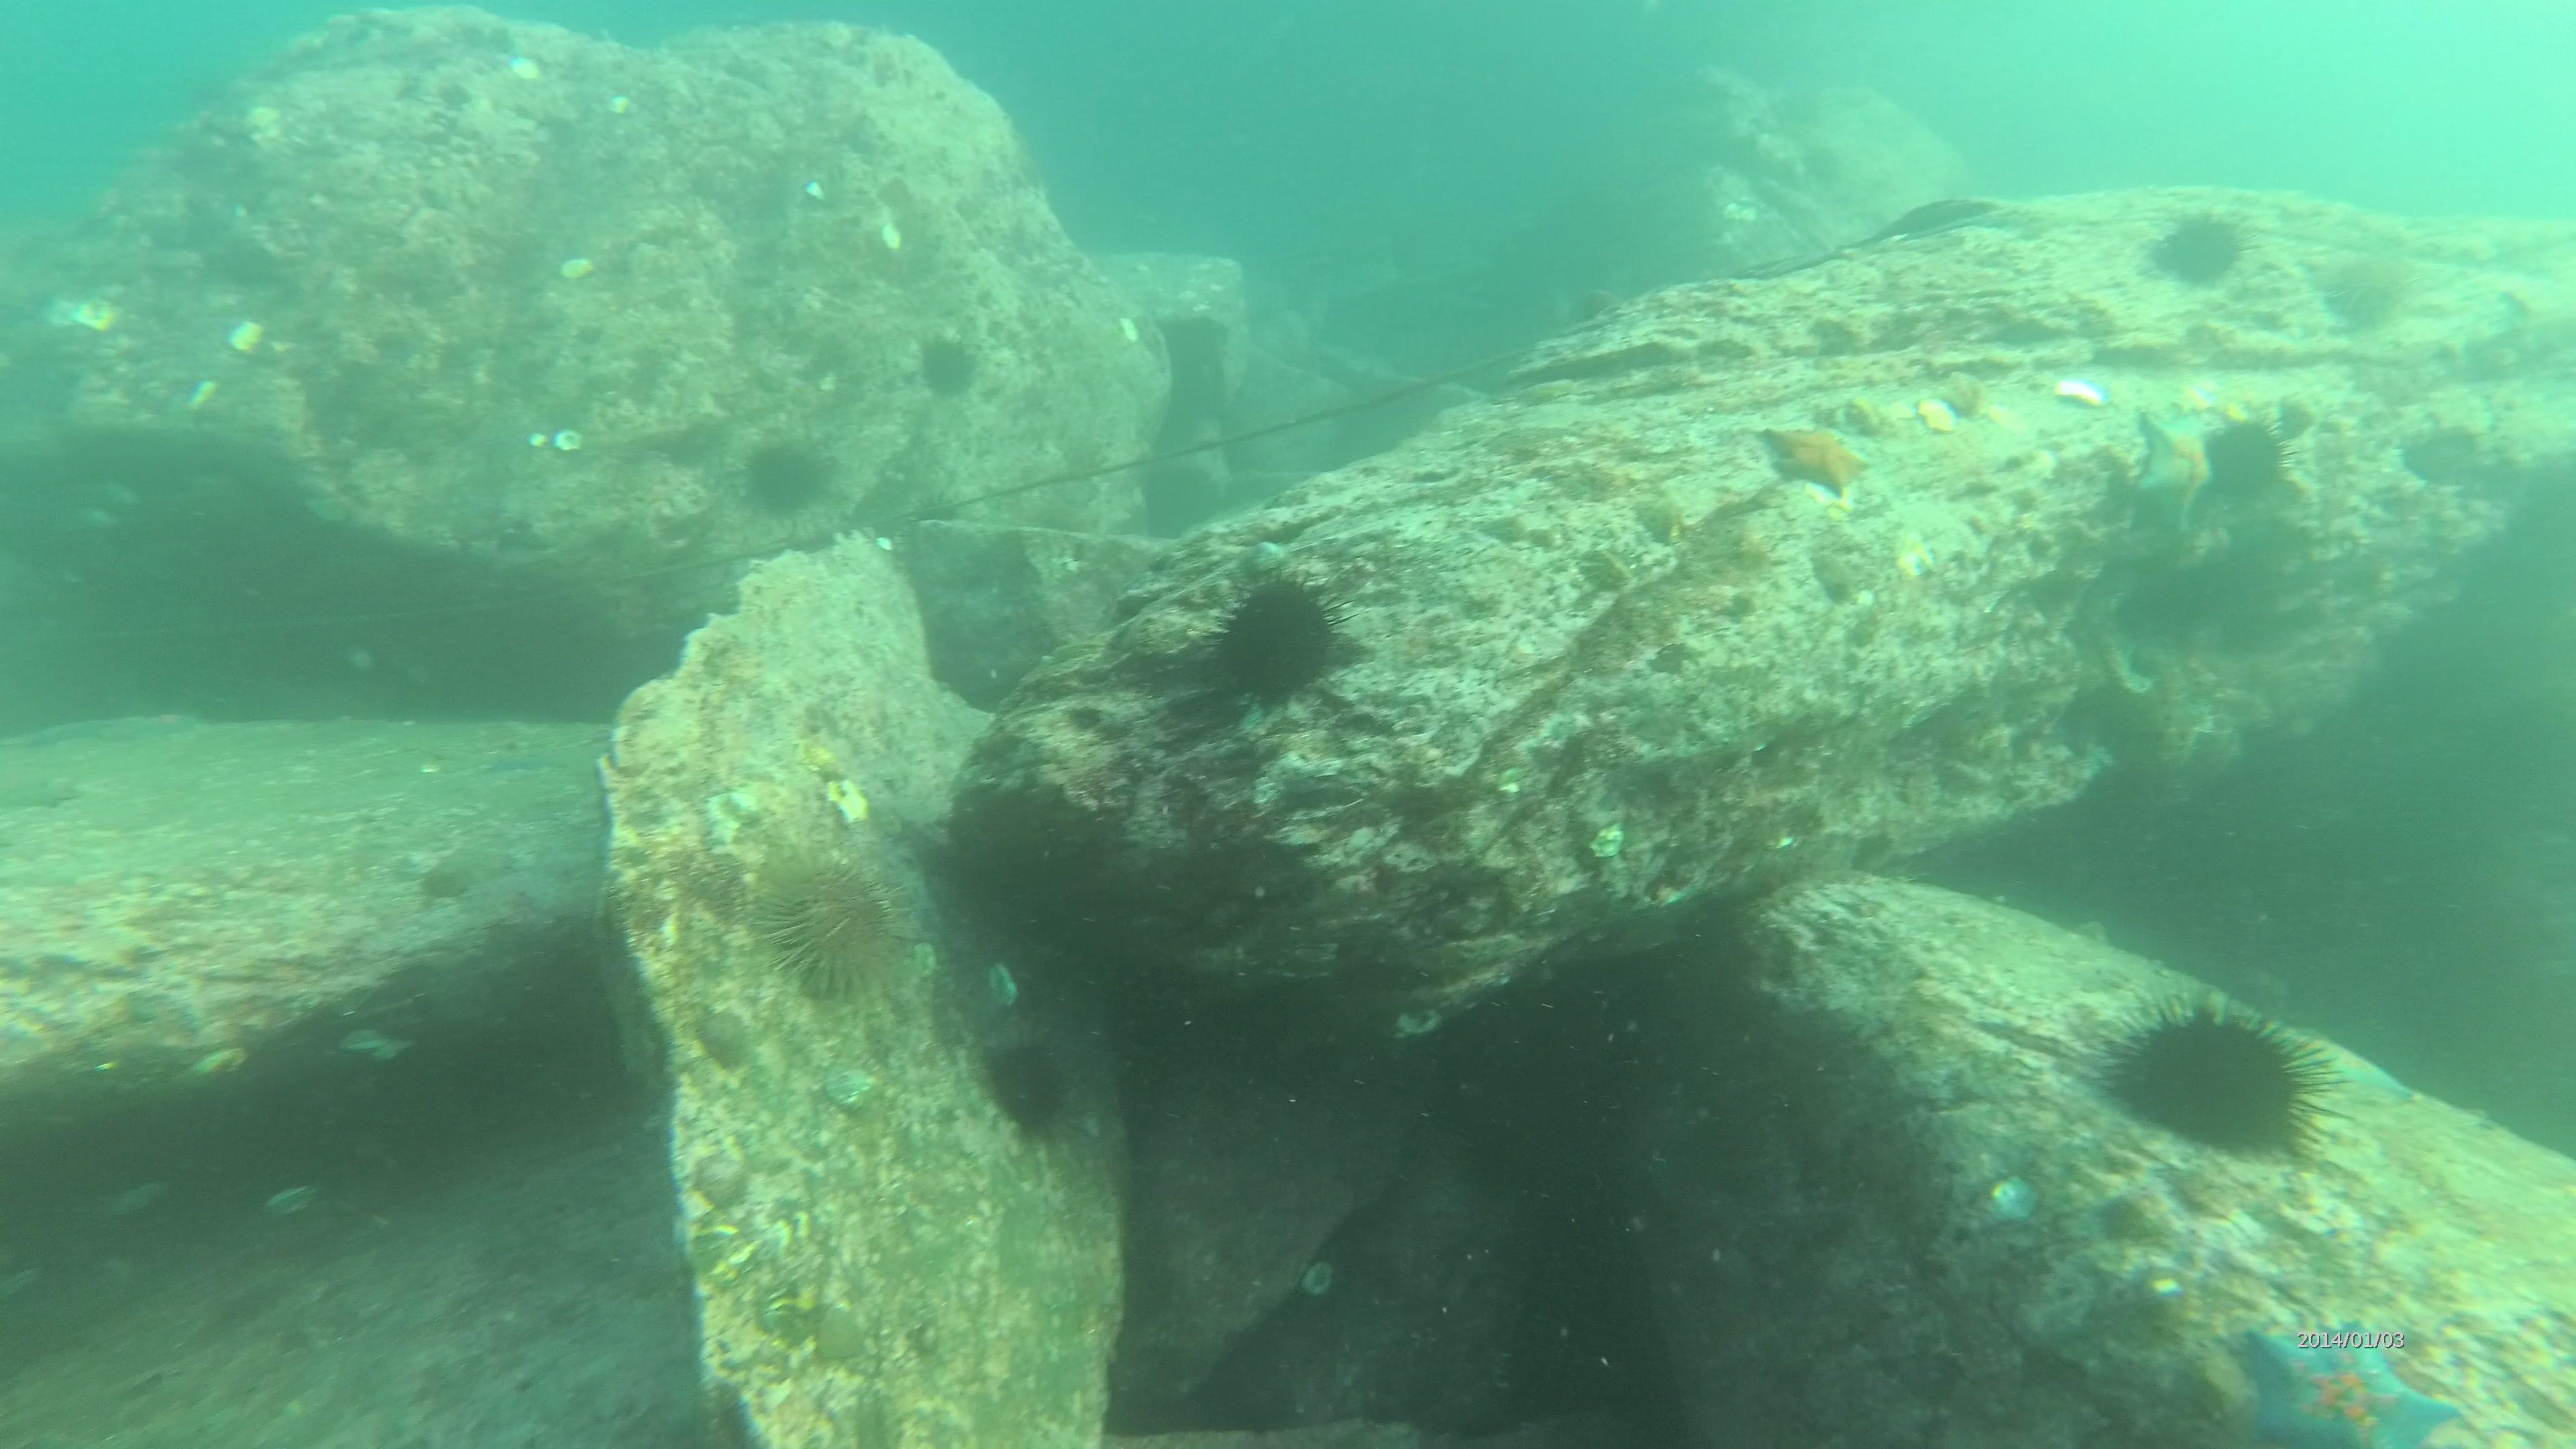echinus: (2105, 980, 2341, 1180), (754, 849, 897, 1001), (1207, 570, 1350, 701), (978, 1035, 1072, 1143), (736, 439, 828, 520), (2167, 205, 2249, 280), (2318, 244, 2401, 311), (2212, 416, 2282, 490), (918, 329, 982, 403)
starfish: (2235, 1307, 2470, 1449), (2134, 403, 2224, 525), (1767, 419, 1879, 501)
